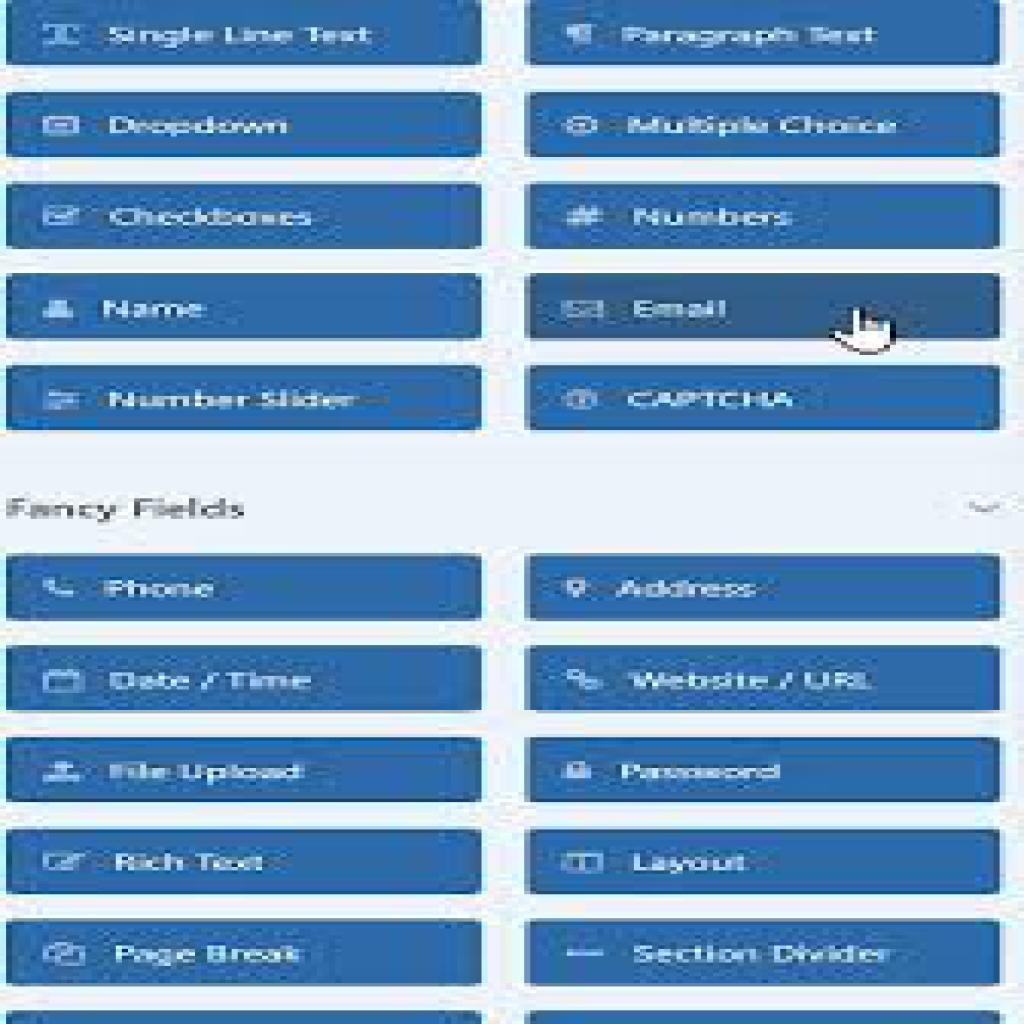button: (526, 828, 1002, 898), (5, 182, 483, 251), (527, 273, 1003, 342), (526, 365, 1002, 434), (527, 554, 1003, 623), (528, 182, 1002, 251), (525, 646, 1002, 714), (525, 91, 1001, 159), (8, 919, 484, 987), (7, 274, 482, 342), (6, 736, 481, 804), (7, 552, 484, 619), (6, 645, 483, 712), (9, 364, 484, 431), (4, 1, 482, 67), (527, 921, 1004, 987), (526, 1, 1002, 67), (6, 830, 482, 896), (526, 737, 998, 802), (9, 91, 481, 155)
icon: (967, 492, 1008, 526)
